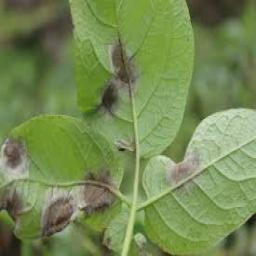Late_blight: (100, 45, 139, 114), (77, 169, 117, 219), (170, 142, 200, 194), (40, 197, 73, 237), (0, 188, 23, 224), (3, 136, 26, 166)
Leaf: (69, 1, 193, 158), (142, 108, 256, 256), (0, 114, 123, 243)
